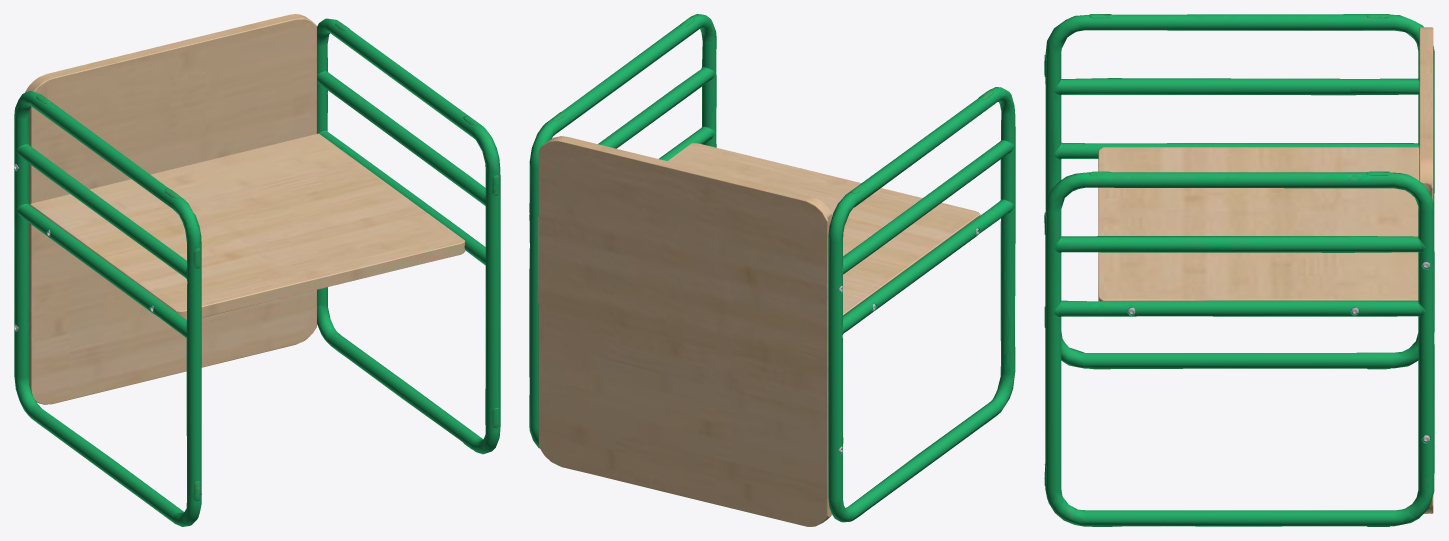
The model's file is 17 - SMÅSKRAKE Multi-functional child chairtable - green.glb.
3 renders of one model, left to right at view 1: azimuth 30°, elevation 25°; view 2: azimuth 150°, elevation 25°; view 3: azimuth 270°, elevation 25°, orthographic. The views are drawn at different scales.
Visible parts, largest first — view 1: ASY_ART_60569744_S01_NV01; view 2: ASY_ART_60569744_S01_NV01; view 3: ASY_ART_60569744_S01_NV01.
Boxes of the visible parts, <box> form: ASY_ART_60569744_S01_NV01: <box>14,14,500,526</box>; ASY_ART_60569744_S01_NV01: <box>529,14,1015,526</box>; ASY_ART_60569744_S01_NV01: <box>1044,14,1434,526</box>.
Bounding box in the file's own units: 0.391 × 0.3924 × 0.3915.
Materials: 1 (1 with a texture image).
